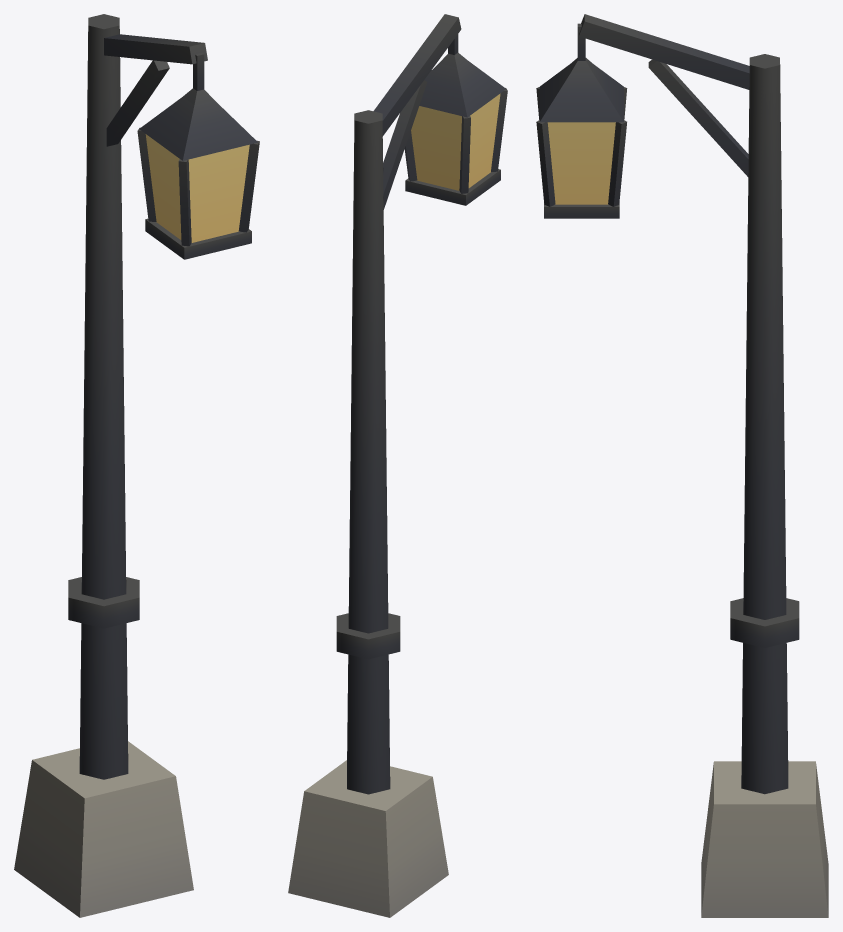
Rendered from lantern_post.glb.
3 renders of one model, left to right at view 1: azimuth 30°, elevation 25°; view 2: azimuth 150°, elevation 25°; view 3: azimuth 270°, elevation 25°, orthographic. The views are drawn at different scales.
Parts seen in each view (by area): view 1: lantern_post; view 2: lantern_post; view 3: lantern_post.
Boxes of the visible parts, bbox=[...] form: lantern_post: bbox=[14, 14, 259, 917]; lantern_post: bbox=[288, 14, 507, 917]; lantern_post: bbox=[536, 14, 828, 917].
Bounding box in the file's own units: 1.6 × 12.1 × 3.67.
Materials: 1 (1 with a texture image).
